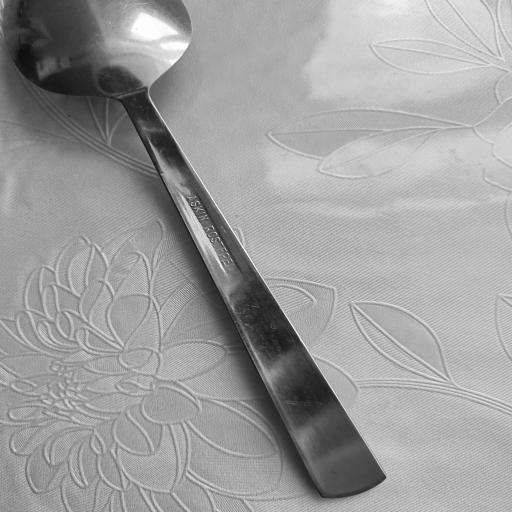spoon: (6, 0, 389, 496)
